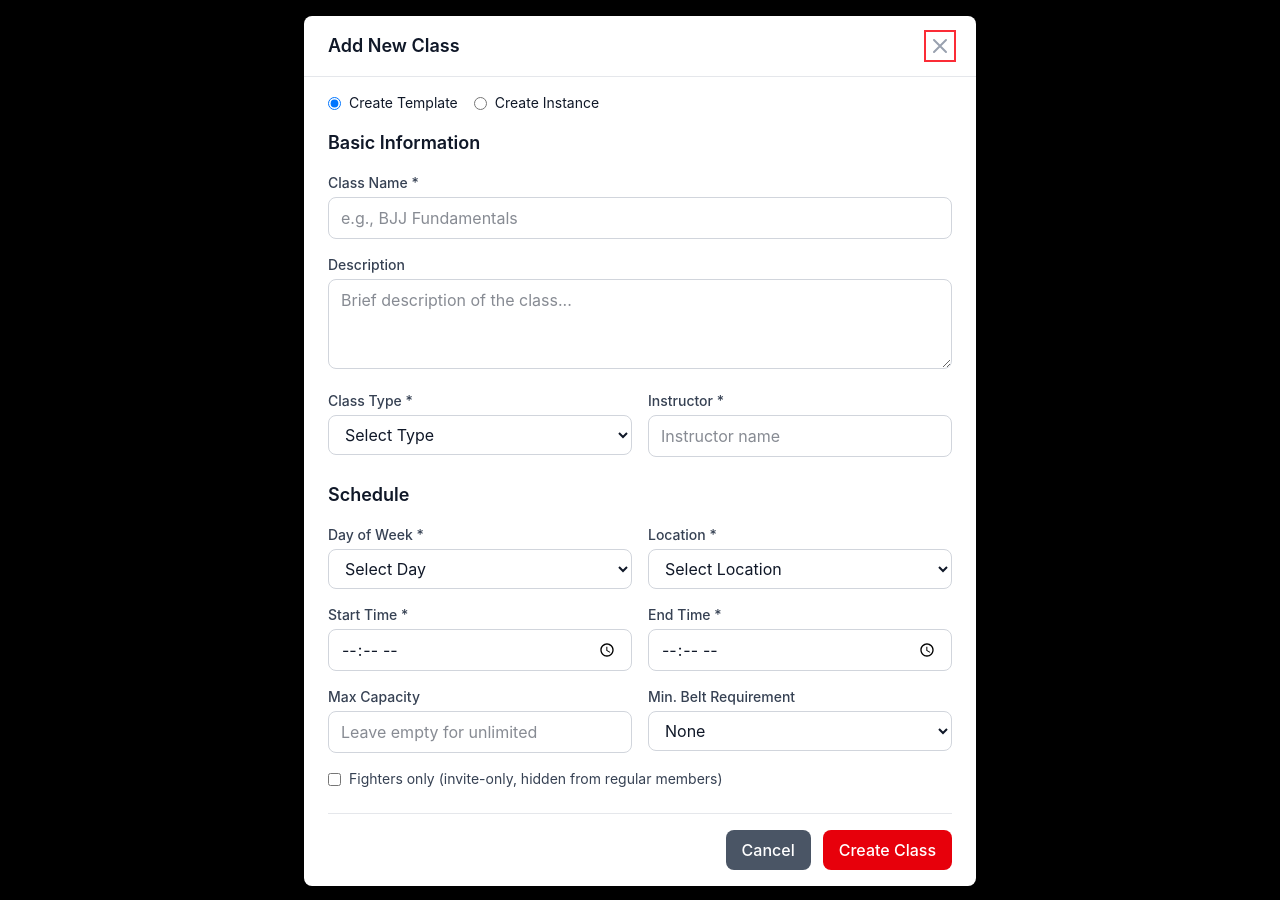
Test: AddClassModal › shows submit error on API failure
In the field named "name": (640, 218) [328,197,952,239], type "BJJ"
In the field named "instructor": (800, 436) [648,415,952,457], type "Coach"
Select "Bjj" in the dropdown named "class_type" below "Class Type *": (480, 435) [328,415,632,455]
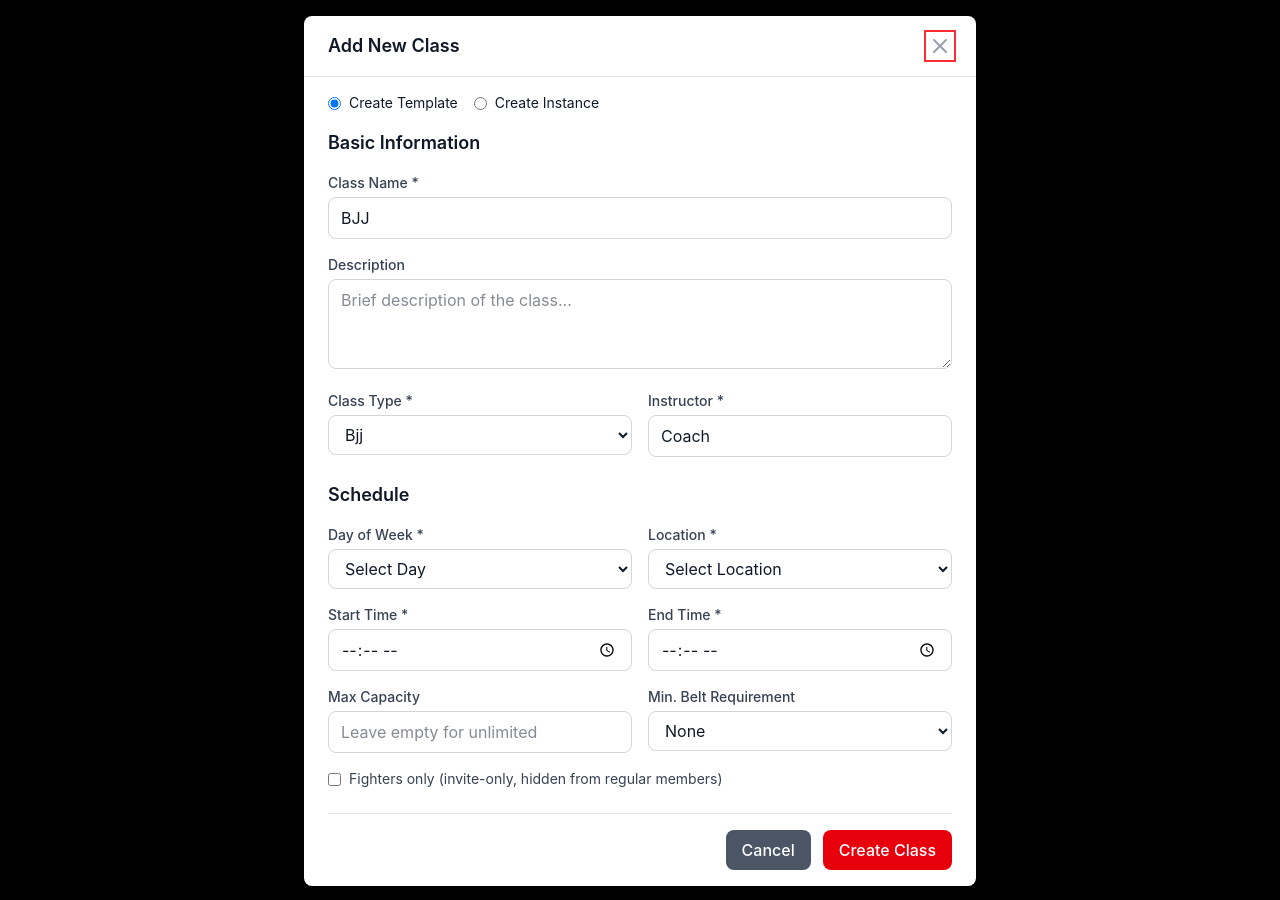
Select "Rockingham" in the dropdown named "location" below "Location *": (800, 569) [648,549,952,589]
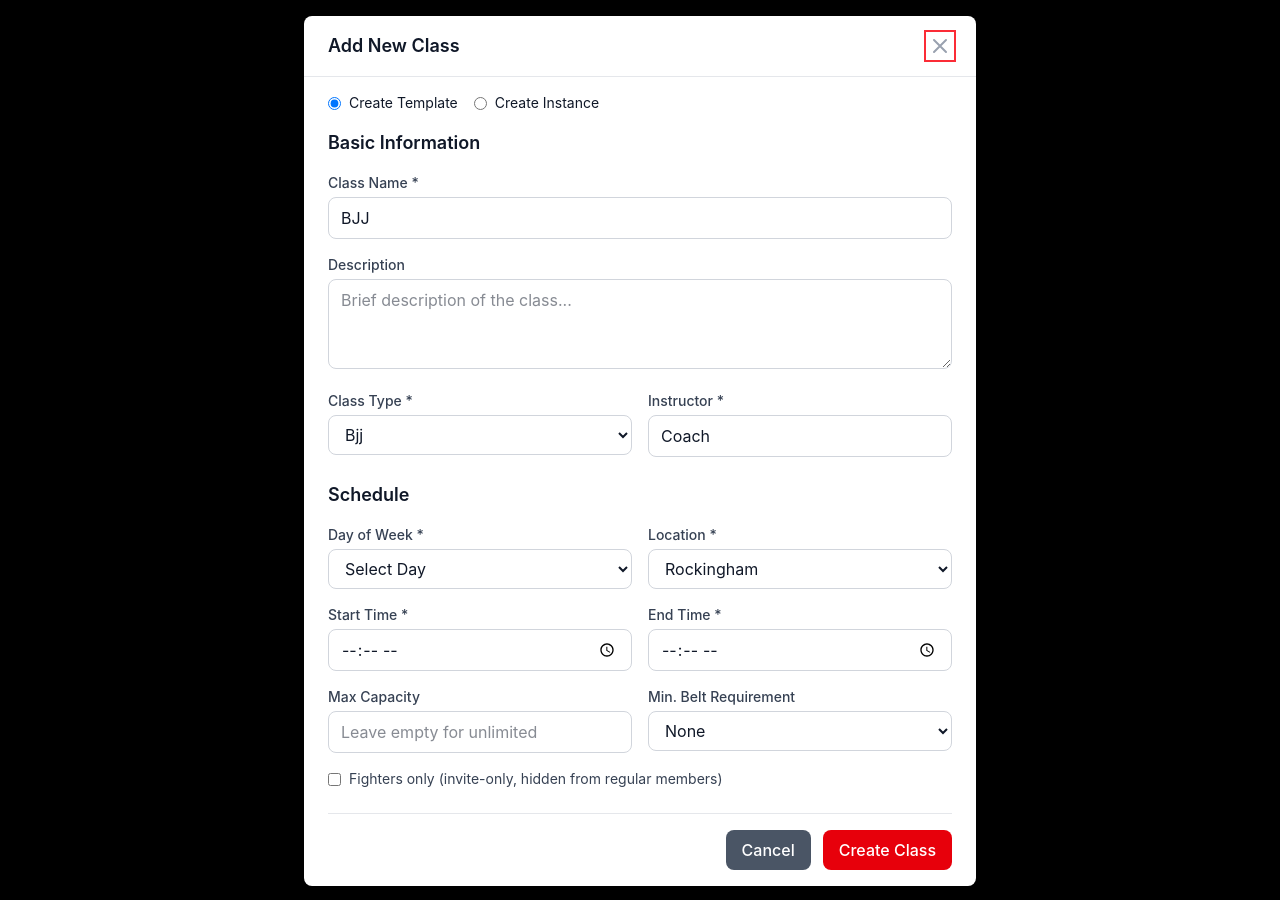
Select "Monday" in the dropdown named "day_of_week" below "Day of Week *": (480, 569) [328,549,632,589]
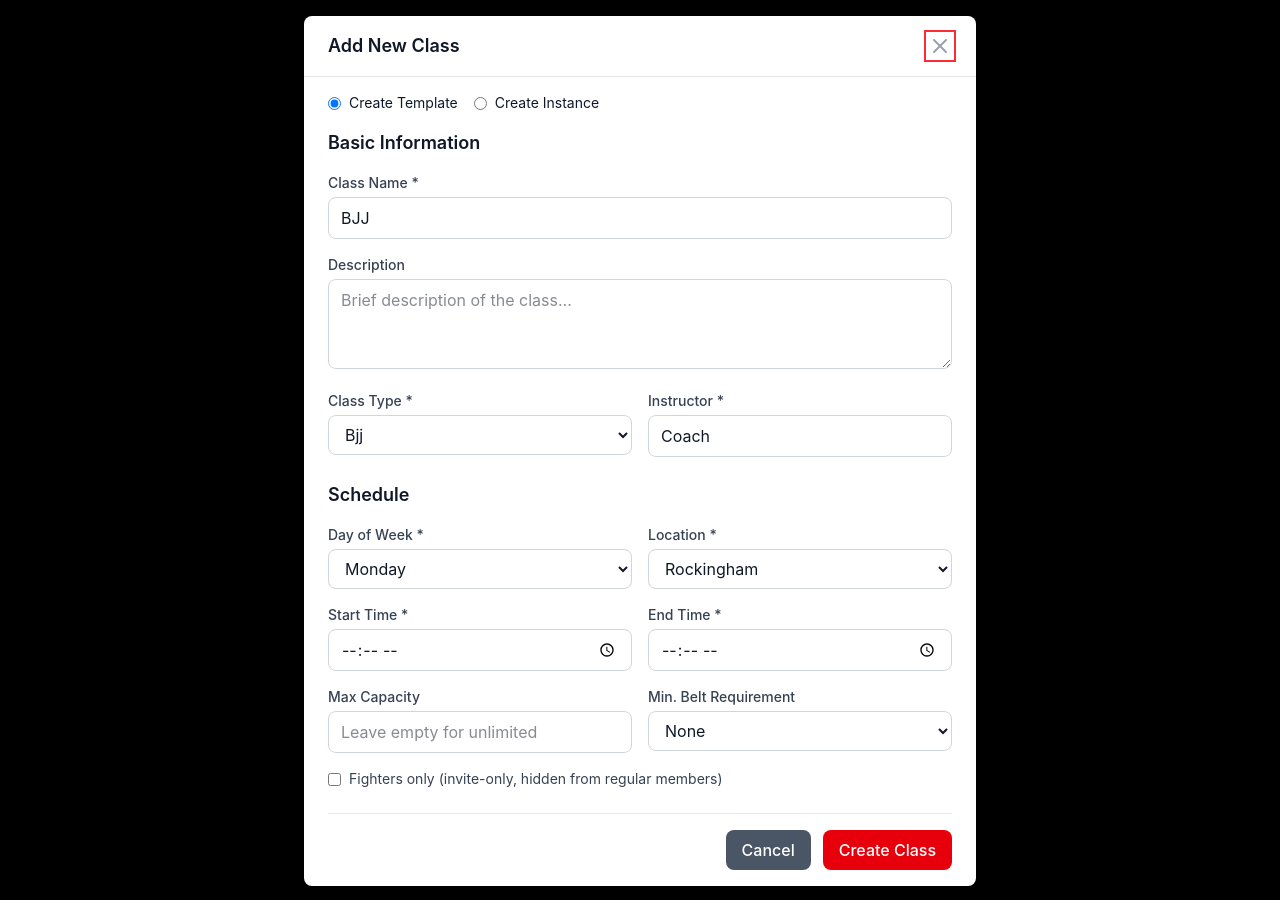
In the time field named "start_time" below "Start Time *": (480, 650) [328,629,632,671], type "09:00"
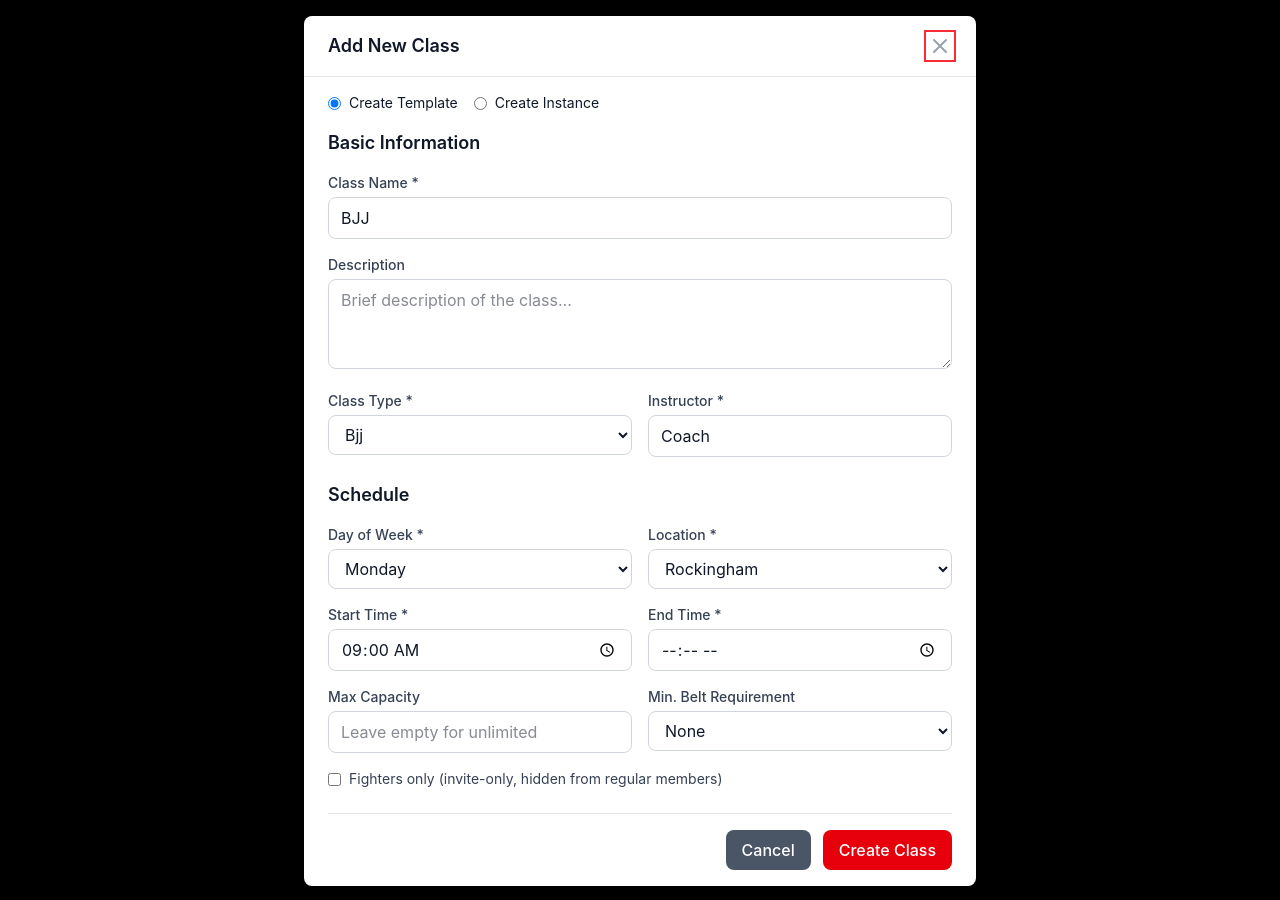
In the time field named "end_time" below "End Time *": (800, 650) [648,629,952,671], type "10:00"
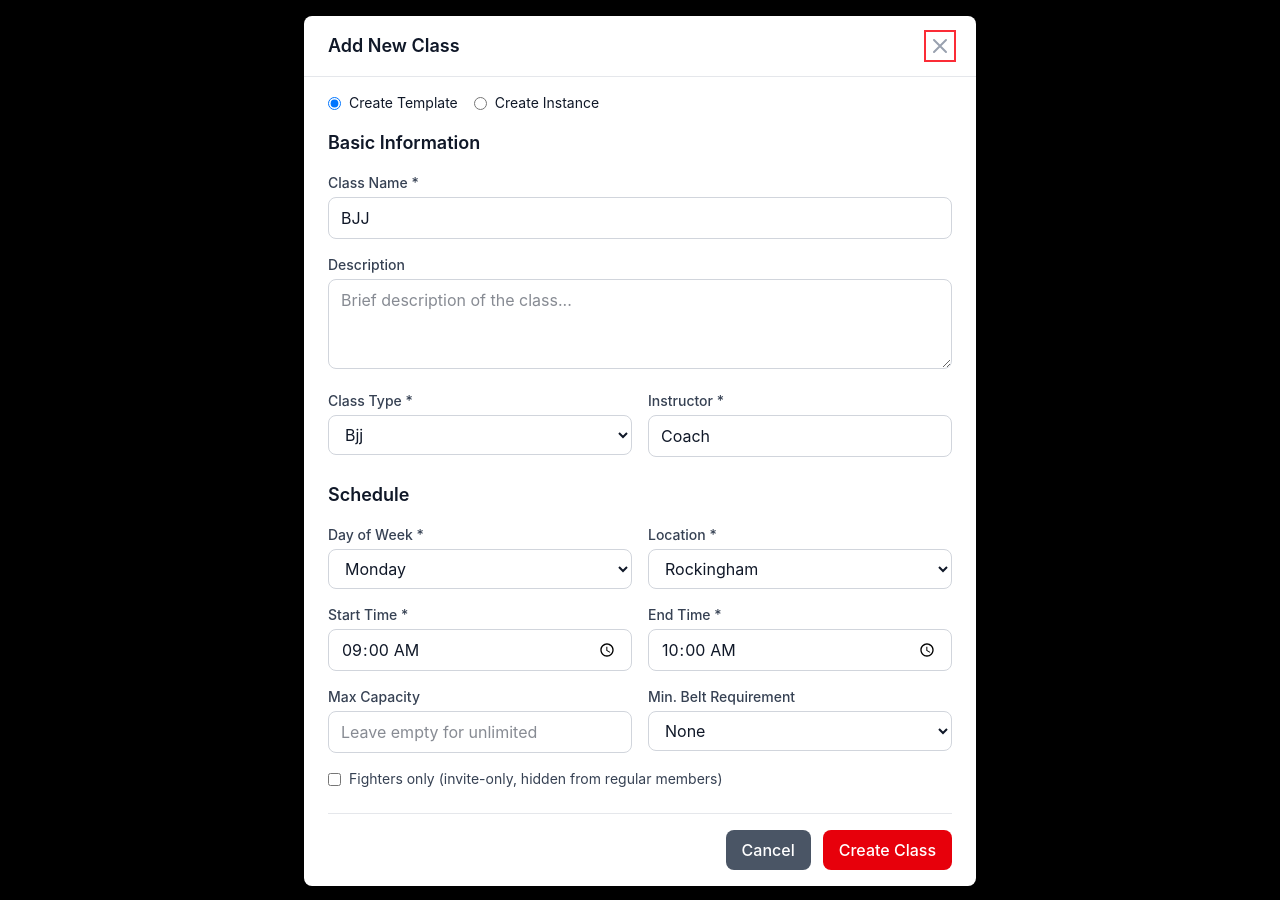
Click the button "Create Class": (887, 850) [823,830,952,870]
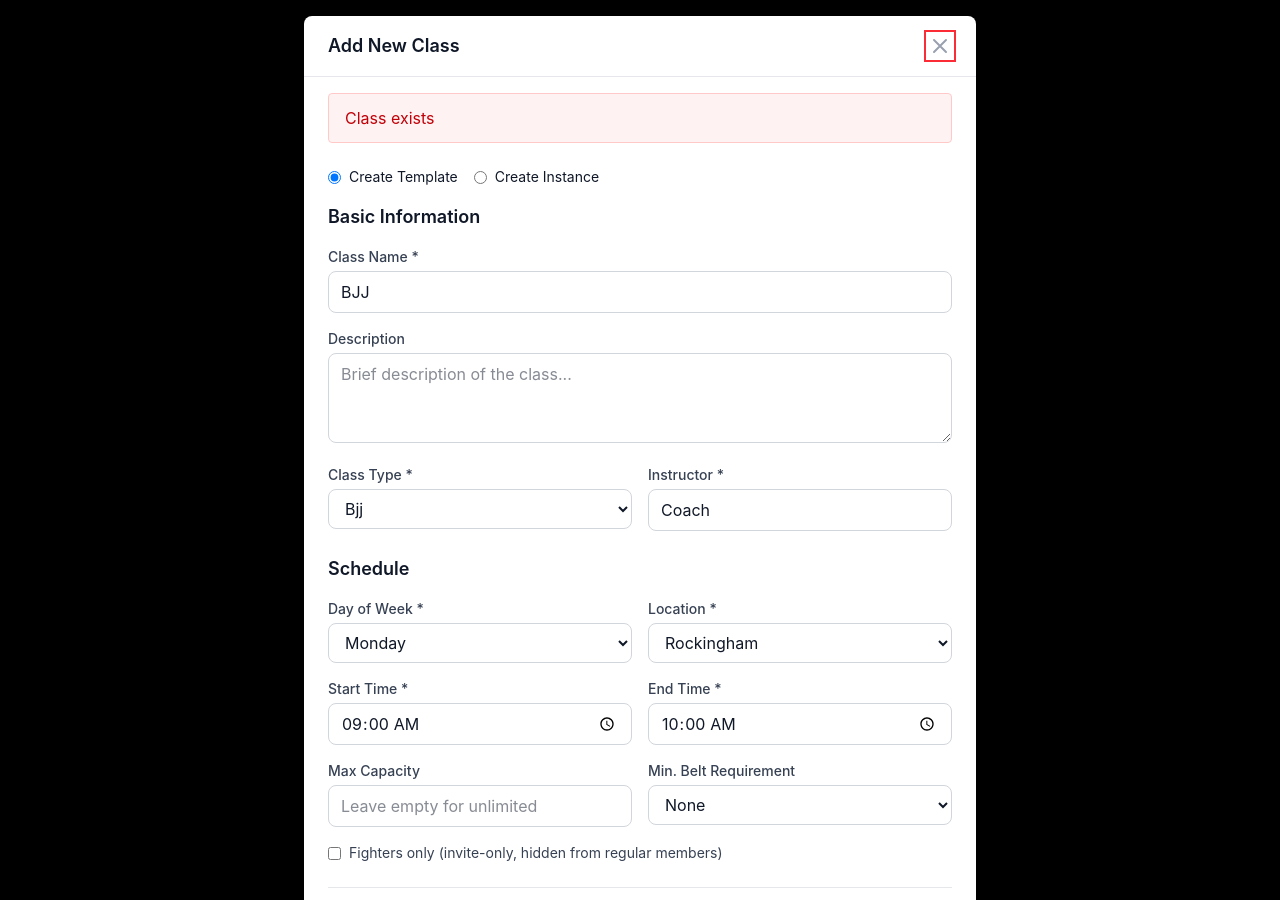
Expected: the text "Class exists" is shown, [328,93,952,143]
